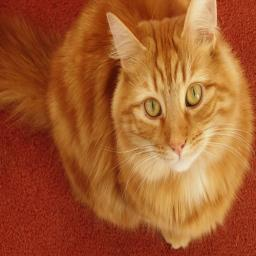catnose: (168, 143, 186, 156)
